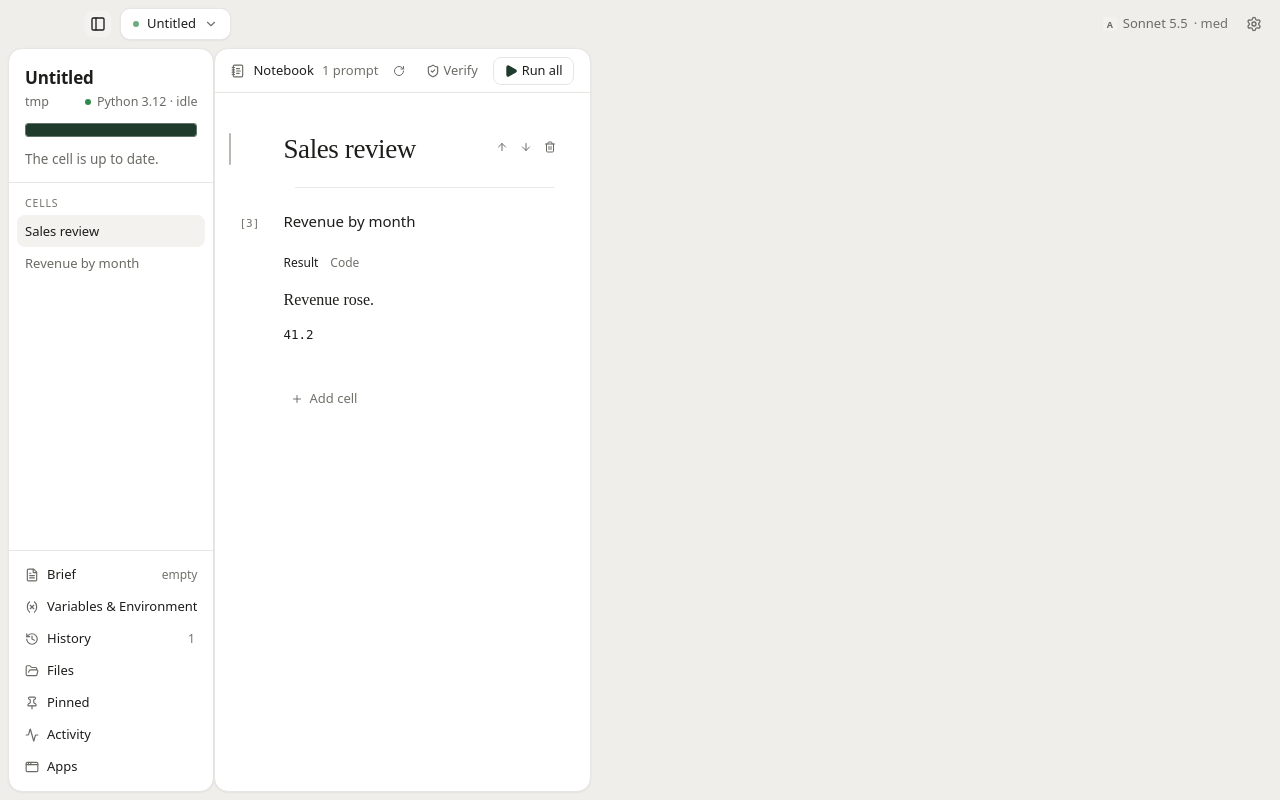
App › makes a prompt cell with code a note with M, and Undo brings the cell back as it was
The image size is (1280, 800).
Step 1. Click the text "Revenue rose." → point(329, 300), box [284,291,374,308]
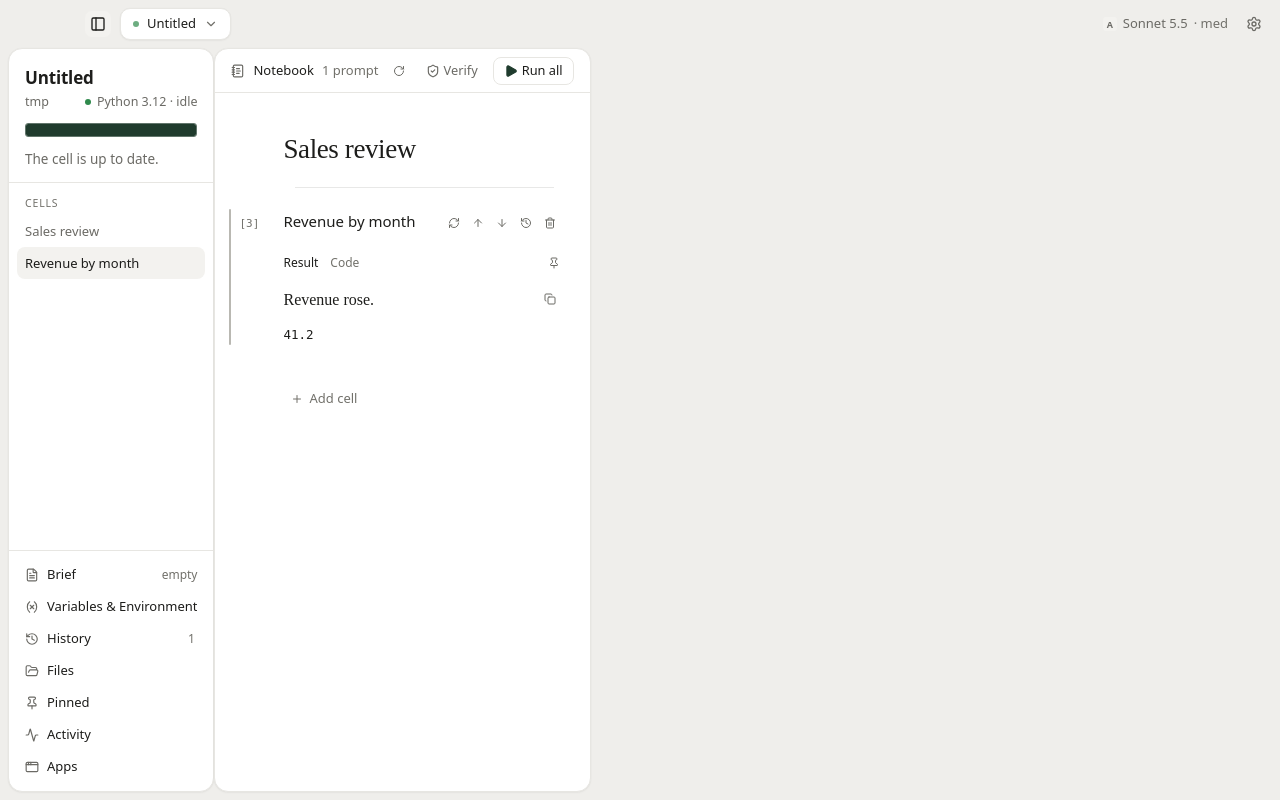
Step 2. Type keys "m"
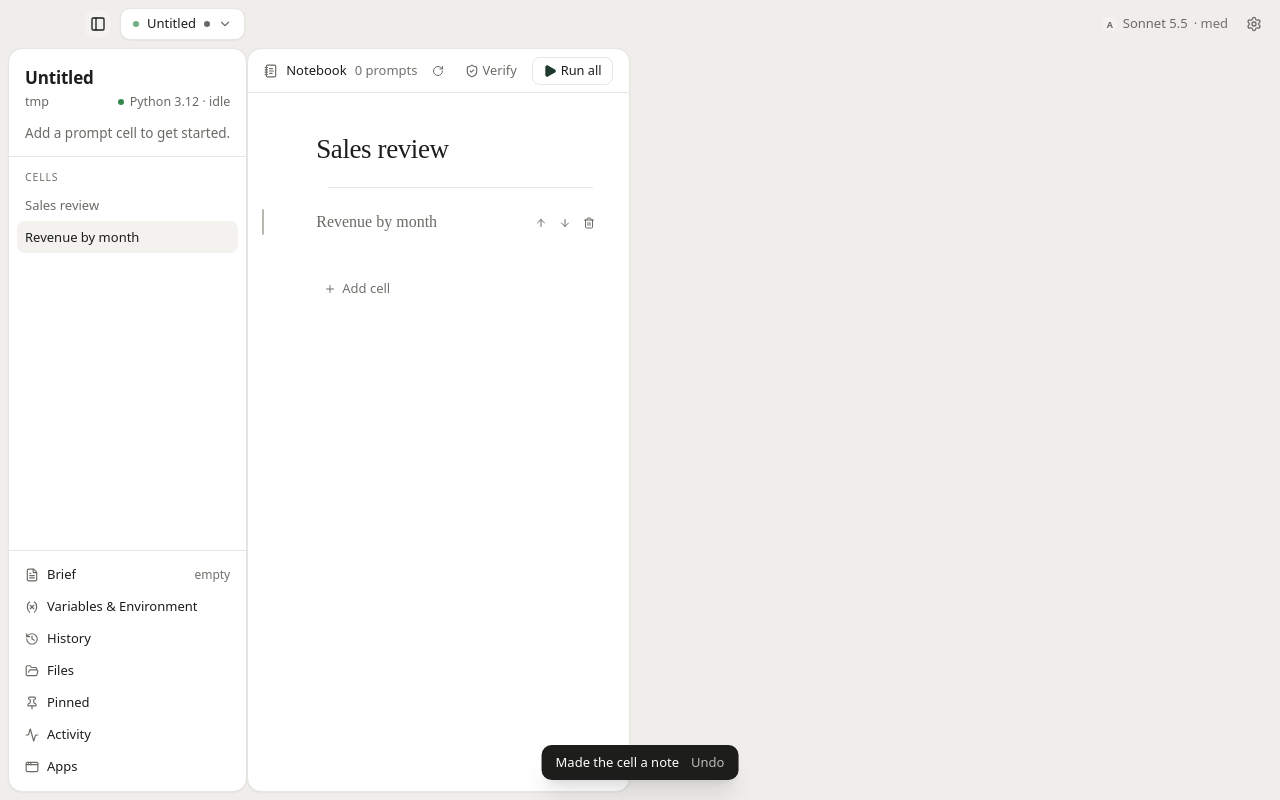
Expected: the message shows "Made the cell a note", [556,752,679,770]
Step 3. Click the button "Undo" → point(708, 762), box [691,752,724,772]
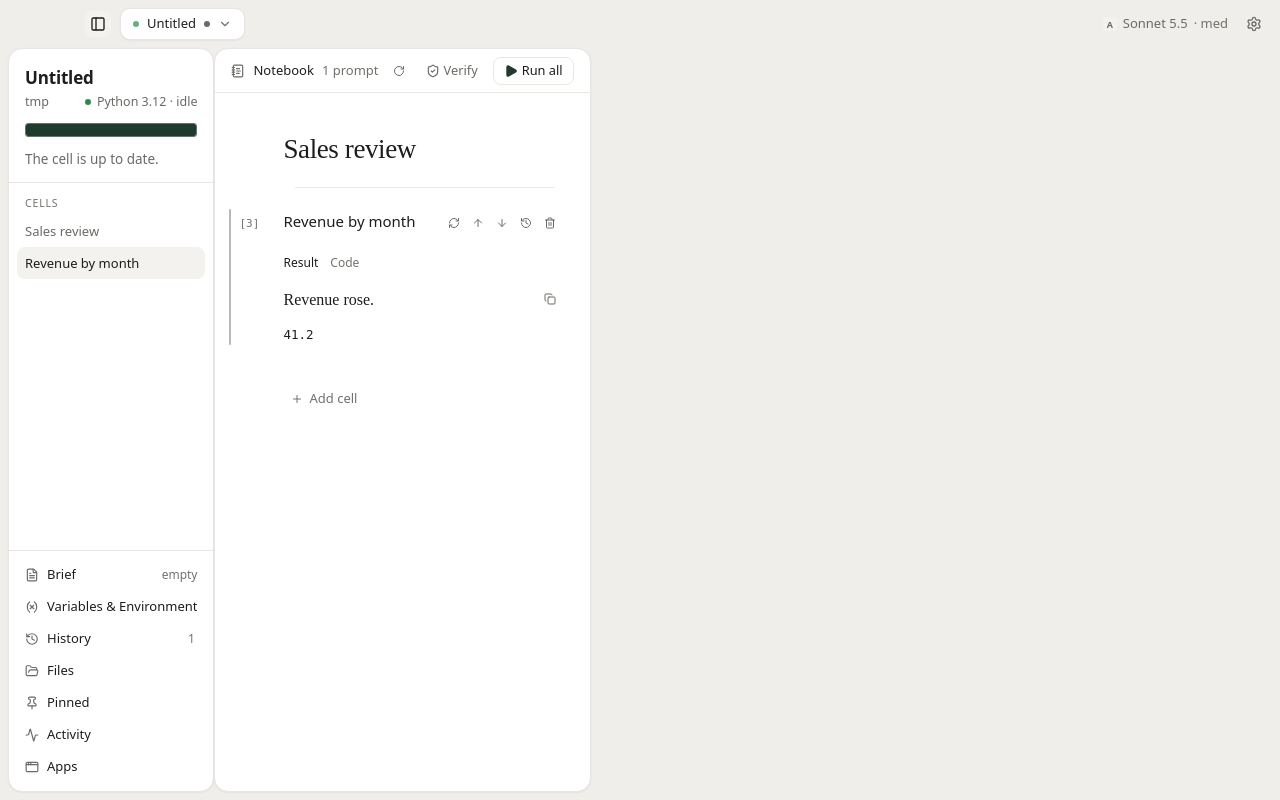
Expected: the text "Revenue rose." is shown, [284,291,374,308]
Expected: the message "Made the cell a note Undo" is gone
